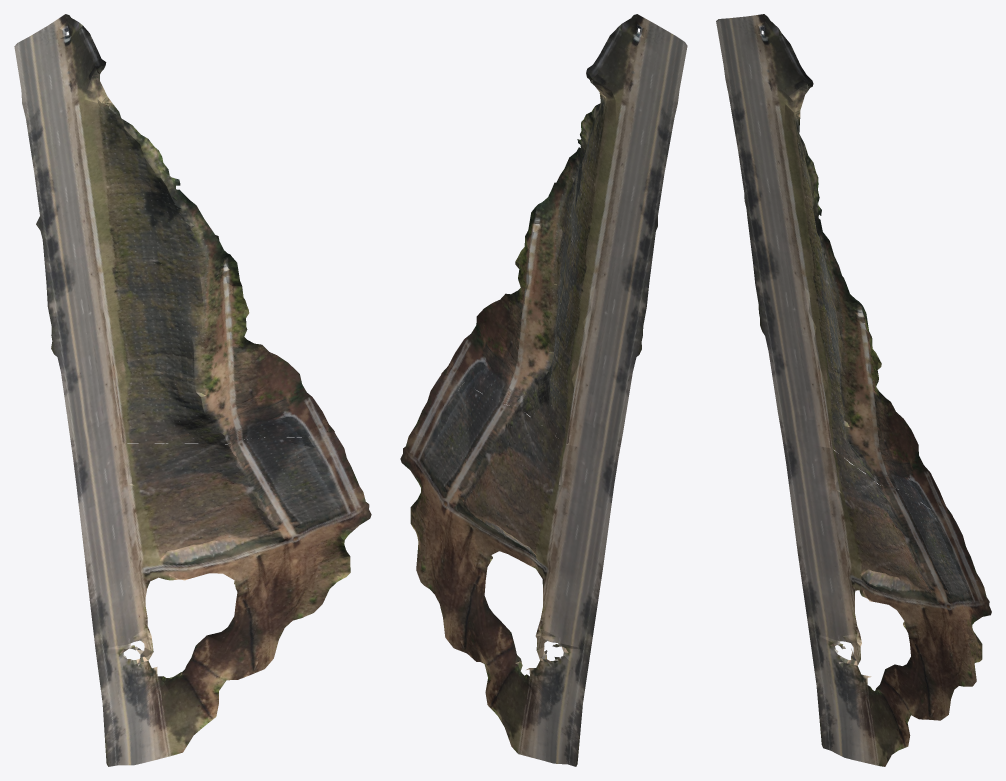
3 renders of one model, left to right at view 1: azimuth 30°, elevation 25°; view 2: azimuth 150°, elevation 25°; view 3: azimuth 330°, elevation 25°, orthographic. The views are drawn at different scales.
Parts seen in each view (by area): view 1: Bloco 1; view 2: Bloco 1; view 3: Bloco 1.
Part boxes in pixels (x1,y1,x2,y2): Bloco 1: (14, 14, 371, 766); Bloco 1: (400, 14, 687, 766); Bloco 1: (716, 14, 991, 766).
Bounding box in the file's own units: 93.32 × 213 × 23.95.
Materials: 1 (1 with a texture image).
